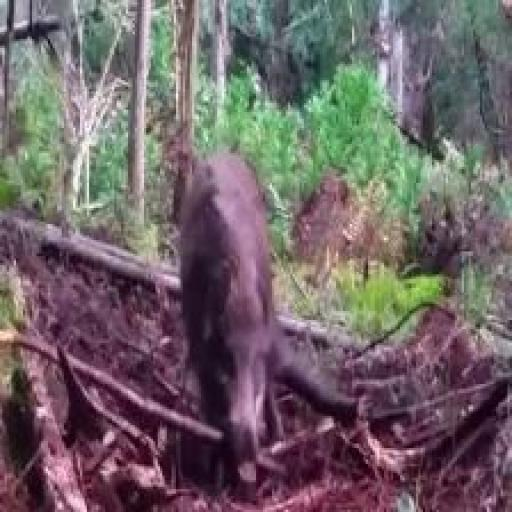Pig: (178, 153, 282, 484)
